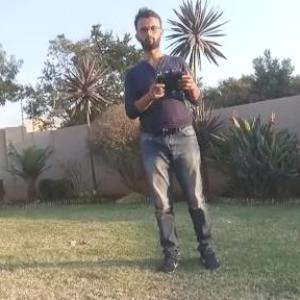follow: (121, 0, 229, 278)
